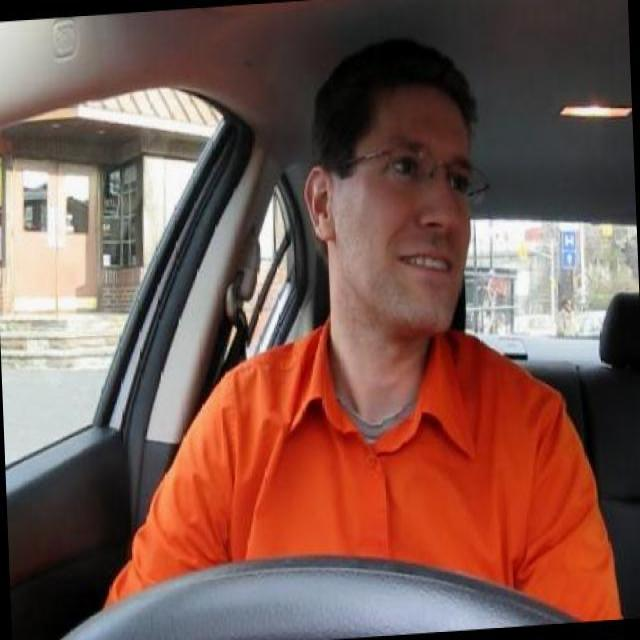no-seatbelt: (242, 306, 560, 614)
